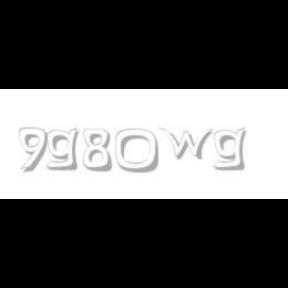8: (83, 128, 112, 172)
9: (18, 128, 48, 172)
O: (114, 128, 160, 174)
g: (214, 128, 251, 171), (46, 128, 82, 171)
w: (158, 128, 218, 160)
